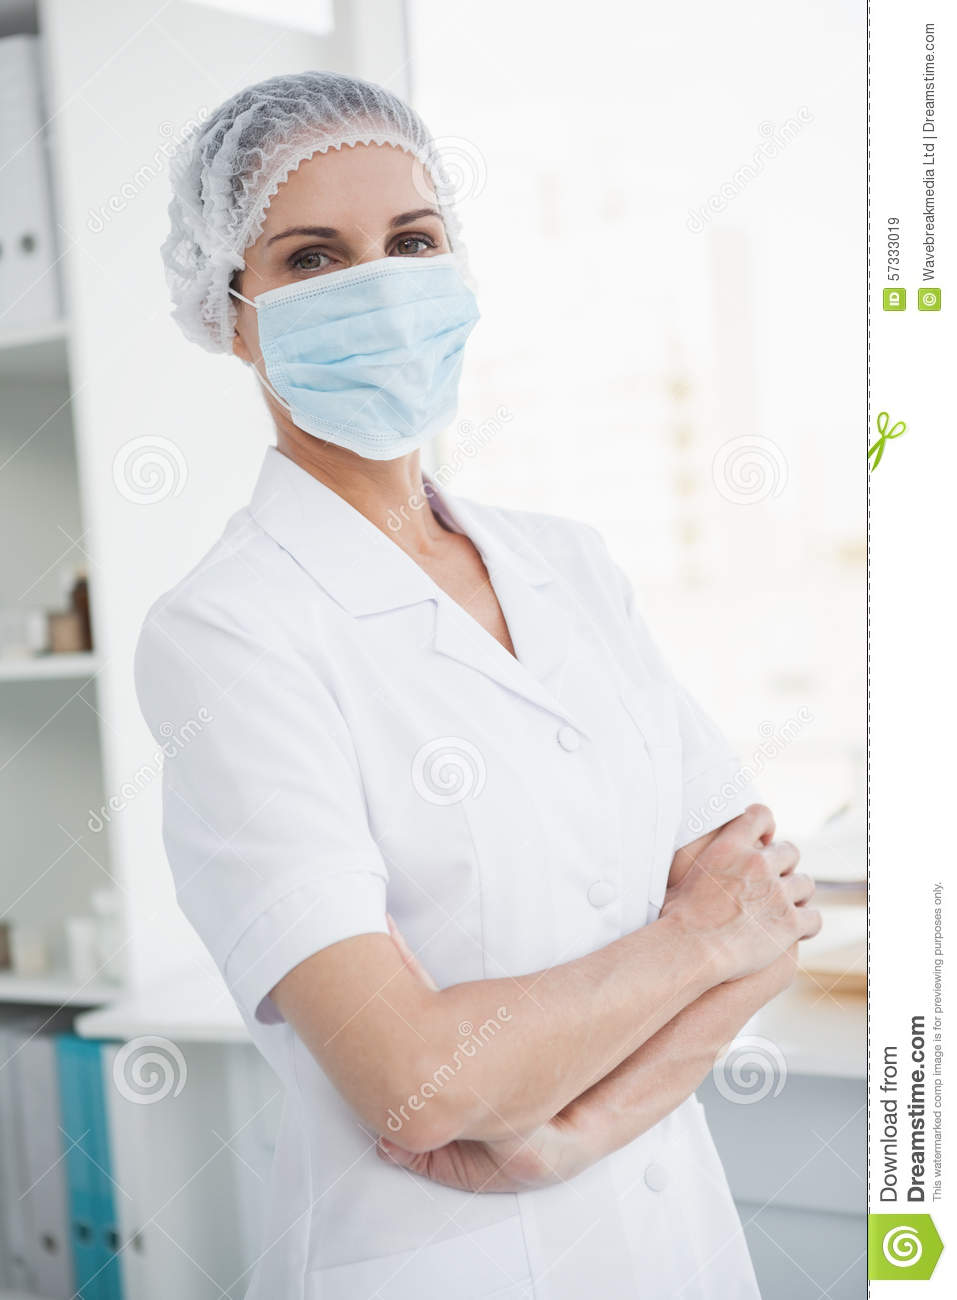mask: (240, 261, 512, 457)
